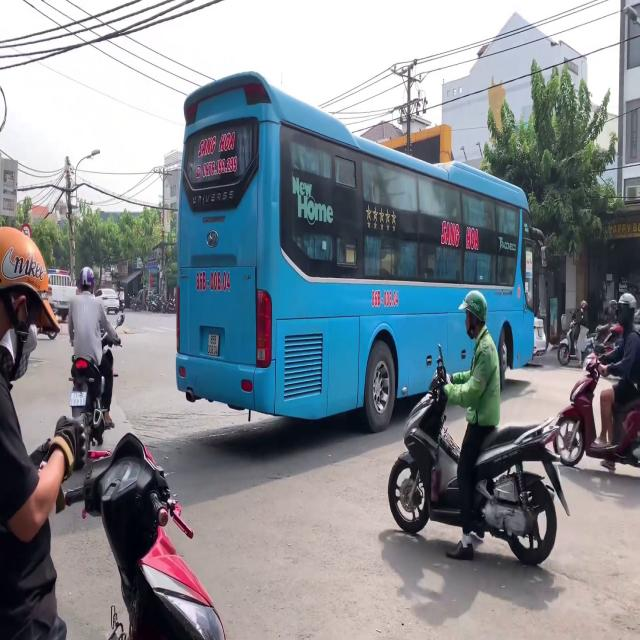bien_trang: (70, 387, 87, 410), (208, 332, 219, 356)
